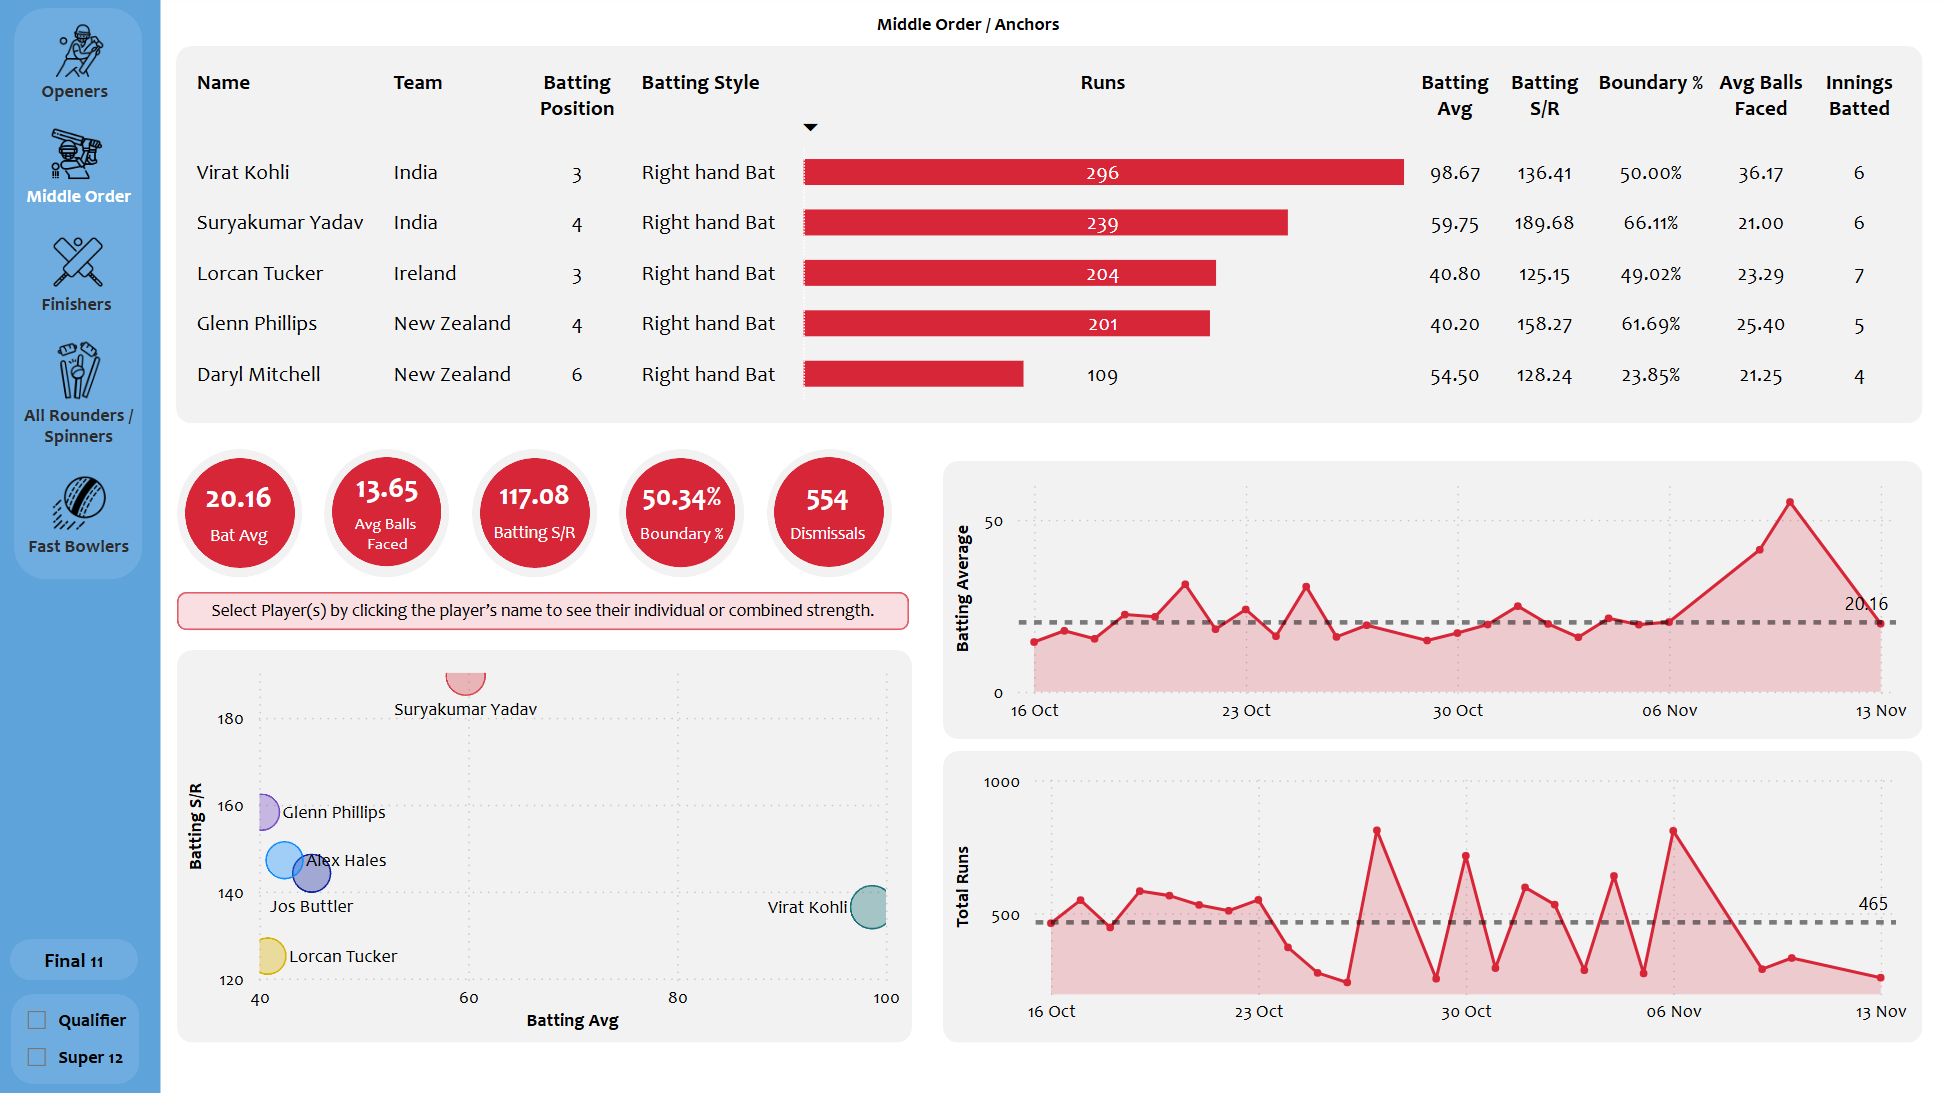

Layout of this report page (visuals, bound fields, positions):
{"tool":"powerbi","page":{"name":"New Middle Order / Anchors","canvas":[1280,720],"ordinal":1},"visuals":[{"type":"shape","title":"Blue side bar","box":[0,0,107,720],"z":0},{"type":"shape","box":[11,8,84,374],"z":0,"group":"g10"},{"type":"image","box":[30,10,48,51],"z":0,"group":"g3"},{"type":"image","box":[31,82,43,43],"z":0,"group":"g7"},{"type":"image","box":[32,153.5,42,42],"z":0,"group":"g6"},{"type":"image","box":[28,220.8,50,49],"z":0,"group":"g5"},{"type":"group","id":"g1","title":"Group 2","box":[118,296,468,84],"z":0,"group":"g9"},{"type":"group","id":"g2","title":"Group 1","box":[118,296,468,84],"z":0,"group":"g1"},{"type":"shape","box":[118,296,82,84],"z":0,"group":"g2"},{"type":"shape","box":[619,304,641,182],"z":0,"group":"g8"},{"type":"image","box":[25,309,58,46],"z":0,"group":"g4"},{"type":"group","id":"g3","title":"Opener","box":[23,10,56,63],"z":1000,"group":"g10"},{"type":"actionButton","box":[23,47,56,26],"z":1000,"group":"g3"},{"type":"actionButton","box":[2,120,103,22],"z":1000,"group":"g7"},{"type":"actionButton","box":[15,191,74,21],"z":1000,"group":"g6"},{"type":"actionButton","box":[2,261,103,38],"z":1000,"group":"g5"},{"type":"shape","box":[214.5,296,82,84],"z":1000,"group":"g2"},{"type":"shape","box":[123,302,72,72],"z":1000,"group":"g1"},{"type":"card","fields":{"Values":["KPIs (2).Batting Avg"]},"box":[126,306,65,58],"z":1000,"group":"g9"},{"type":"actionButton","box":[2,349,103,22],"z":1000,"group":"g4"},{"type":"shape","box":[619,494,641,191],"z":1000,"group":"g8"},{"type":"shape","title":"Slicer BG","box":[9,653,84,59],"z":1000},{"type":"shape","title":"Canvas White BG","box":[107,0,1173,720],"z":2000},{"type":"shape","box":[311,296,82,84],"z":2000,"group":"g2"},{"type":"shape","box":[219.5,301.4,71.5,71.5],"z":2000,"group":"g1"},{"type":"card","fields":{"Values":["KPIs (2).Strike rate"]},"box":[314,304,75,60],"z":2000,"group":"g9"},{"type":"group","id":"g4","title":"Fast Bowlers","box":[2,309,103,62],"z":2000,"group":"g10"},{"type":"group","id":"g5","title":"All Rounders","box":[2,220.8,103,78.2],"z":3000,"group":"g10"},{"type":"card","fields":{"Values":["KPIs (2).Avg Balls Faced"]},"box":[224.9,274,62.3,109.2],"z":3000,"group":"g9"},{"type":"shape","box":[407.5,296,82,84],"z":3000,"group":"g2"},{"type":"shape","box":[316,302,72,72],"z":3000,"group":"g1"},{"type":"shape","title":"Scatter BG","box":[118,428,481,257],"z":3000},{"type":"shape","title":"Table BG","box":[117,33,1143,247],"z":4000},{"type":"group","id":"g6","title":"Finishers","box":[15,153.5,74,58.5],"z":4000,"group":"g10"},{"type":"shape","box":[504,296,82,84],"z":4000,"group":"g2"},{"type":"shape","box":[411.8,302.2,71.5,71.5],"z":4000,"group":"g1"},{"type":"card","fields":{"Values":["KPIs (2).Boundary %"]},"box":[410.3,302.5,76.2,65.4],"z":4000,"group":"g9"},{"type":"group","id":"g7","title":"Middle Order","box":[2,82,103,60],"z":5000,"group":"g10"},{"type":"card","fields":{"Values":["KPIs (2).Total Innings Dismissed"]},"box":[507,300,74,69],"z":5000,"group":"g9"},{"type":"shape","box":[509,301,72,72],"z":5000,"group":"g1"},{"type":"group","id":"g8","title":"Graph 2 3 BKG","box":[619,304,641,381],"z":5000},{"type":"group","id":"g9","title":"Circular Bar Bwl Tble","box":[118,274,468,109.2],"z":6000},{"type":"group","id":"g10","title":"Sider Bard Icons","box":[2,8,103,374],"z":7000},{"type":"slicer","fields":{"Values":["dim_match_summary.Stage"]},"box":[7,653,88,59],"z":8000},{"type":"lineChart","fields":{"Category":["dim_match_summary.matchDate.Variation.Date Hierarchy.Year","dim_match_summary.matchDate.Variation.Date Hierarchy.Month","dim_match_summary.matchDate.Variation.Date Hierarchy.Day"],"Y":["KPIs (2).Total Runs"]},"box":[622,499,633,181],"z":9000},{"type":"lineChart","fields":{"Y":["KPIs (2).Batting Avg"],"Category":["dim_match_summary.matchDate.Variation.Date Hierarchy.Year","dim_match_summary.matchDate.Variation.Date Hierarchy.Month","dim_match_summary.matchDate.Variation.Date Hierarchy.Day"]},"box":[622,306,633,177],"z":10000},{"type":"textbox","box":[570.3,3.3,139.4,26.8],"z":11000},{"type":"shape","title":"Select player(s)","box":[118,390,479,25],"z":12000},{"type":"shape","title":"Player/combined performance","box":[118,390,479,25],"z":13000},{"type":"tableEx","fields":{"Values":["dim_players.Name","dim_players.Team","KPIs (2).Batting Position","dim_players.Batting Style","KPIs (2).Total Runs","KPIs (2).Batting Avg","KPIs (2).Strike rate","KPIs (2).Boundary %","KPIs (2).Avg Balls Faced","KPIs (2).Total Innings Batted"]},"box":[120,35,1136,241],"z":14000},{"type":"scatterChart","fields":{"X":["KPIs (2).Batting Avg"],"Y":["KPIs (2).Strike rate"],"Category":["dim_players.Name"],"Series":["dim_players.Name"],"Size":["KPIs (2).Total Runs"]},"box":[120,430,476,252],"z":15000},{"type":"actionButton","box":[8.8,617.4,83.8,27],"z":16000}]}

Visuals, with their boxes on the page's 1280x720 design canvas (x1, y1, x2, y2). These are canvas units, not pixel positions in the 1950x1093 screenshot, which may show the page scaled, cropped or inside an application window:
"Blue side bar" shape: (0, 0, 107, 720)
shape: (11, 8, 95, 382)
image: (30, 10, 78, 61)
image: (31, 82, 74, 125)
image: (32, 154, 74, 196)
image: (28, 221, 78, 270)
"Group 2" group: (118, 296, 586, 380)
"Group 1" group: (118, 296, 586, 380)
shape: (118, 296, 200, 380)
shape: (619, 304, 1260, 486)
image: (25, 309, 83, 355)
"Opener" group: (23, 10, 79, 73)
actionButton: (23, 47, 79, 73)
actionButton: (2, 120, 105, 142)
actionButton: (15, 191, 89, 212)
actionButton: (2, 261, 105, 299)
shape: (214, 296, 296, 380)
shape: (123, 302, 195, 374)
card - KPIs (2).Batting Avg: (126, 306, 191, 364)
actionButton: (2, 349, 105, 371)
shape: (619, 494, 1260, 685)
"Slicer BG" shape: (9, 653, 93, 712)
"Canvas White BG" shape: (107, 0, 1280, 720)
shape: (311, 296, 393, 380)
shape: (220, 301, 291, 373)
card - KPIs (2).Strike rate: (314, 304, 389, 364)
"Fast Bowlers" group: (2, 309, 105, 371)
"All Rounders" group: (2, 221, 105, 299)
card - KPIs (2).Avg Balls Faced: (225, 274, 287, 383)
shape: (408, 296, 490, 380)
shape: (316, 302, 388, 374)
"Scatter BG" shape: (118, 428, 599, 685)
"Table BG" shape: (117, 33, 1260, 280)
"Finishers" group: (15, 154, 89, 212)
shape: (504, 296, 586, 380)
shape: (412, 302, 483, 374)
card - KPIs (2).Boundary %: (410, 302, 486, 368)
"Middle Order" group: (2, 82, 105, 142)
card - KPIs (2).Total Innings Dismissed: (507, 300, 581, 369)
shape: (509, 301, 581, 373)
"Graph 2 3 BKG" group: (619, 304, 1260, 685)
"Circular Bar Bwl Tble" group: (118, 274, 586, 383)
"Sider Bard Icons" group: (2, 8, 105, 382)
slicer - dim_match_summary.Stage: (7, 653, 95, 712)
lineChart - dim_match_summary.matchDate.Variation.Date Hierarchy.Year x dim_match_summary.matchDate.Variation.Date Hierarchy.Month: (622, 499, 1255, 680)
lineChart - KPIs (2).Batting Avg x dim_match_summary.matchDate.Variation.Date Hierarchy.Year: (622, 306, 1255, 483)
textbox: (570, 3, 710, 30)
"Select player(s)" shape: (118, 390, 597, 415)
"Player/combined performance" shape: (118, 390, 597, 415)
tableEx - dim_players.Name x dim_players.Team: (120, 35, 1256, 276)
scatterChart - KPIs (2).Batting Avg x KPIs (2).Strike rate: (120, 430, 596, 682)
actionButton: (9, 617, 93, 644)
